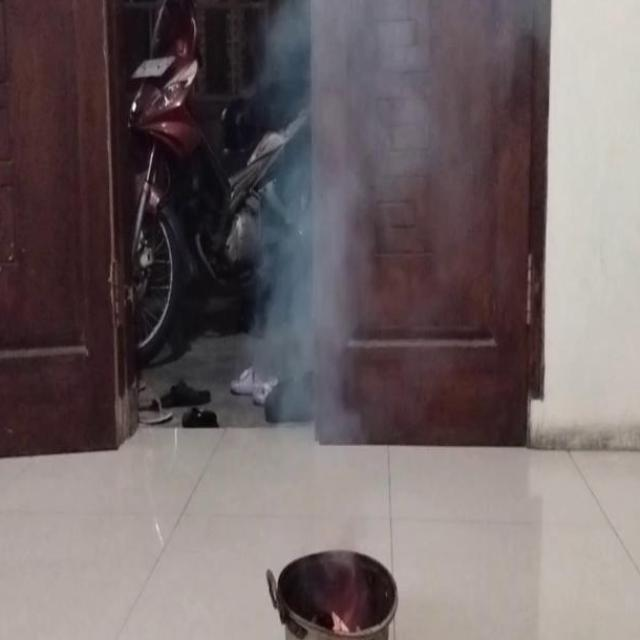fire: (242, 0, 436, 407)
